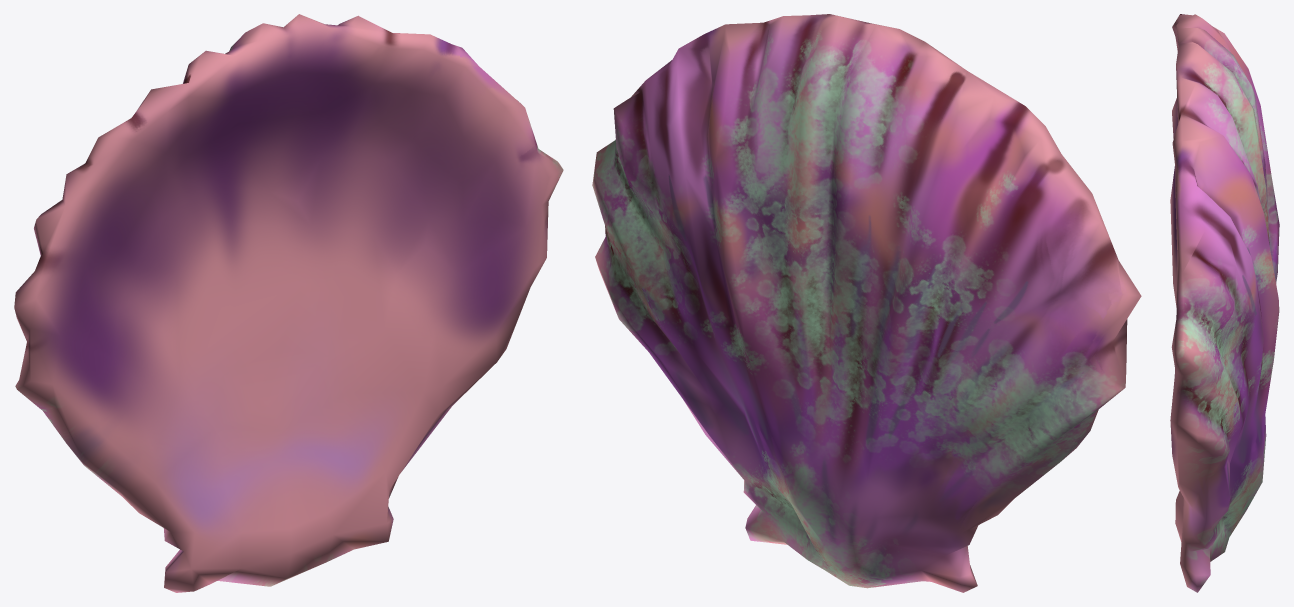
Rendered from pinkscallop.glb.
3 renders of one model, left to right at view 1: azimuth 30°, elevation 25°; view 2: azimuth 150°, elevation 25°; view 3: azimuth 270°, elevation 25°, orthographic. The views are drawn at different scales.
Visible parts, largest first — view 1: working_LP; view 2: working_LP; view 3: working_LP.
Boxes of the visible parts, bbox=[...] form: working_LP: bbox=[14, 14, 563, 592]; working_LP: bbox=[592, 14, 1141, 592]; working_LP: bbox=[1170, 14, 1279, 592].
Size of the model in its own units: 1.89 by 1.86 by 0.351.
Materials: 1 (1 with a texture image).
